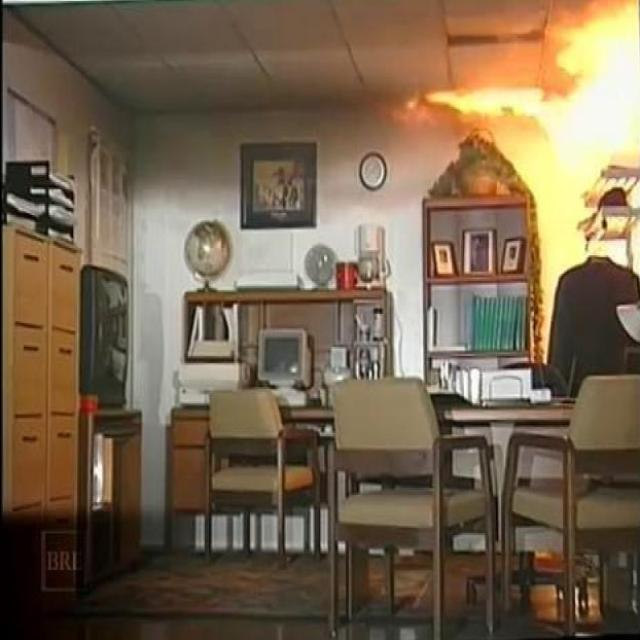smoke: (425, 1, 640, 170)
